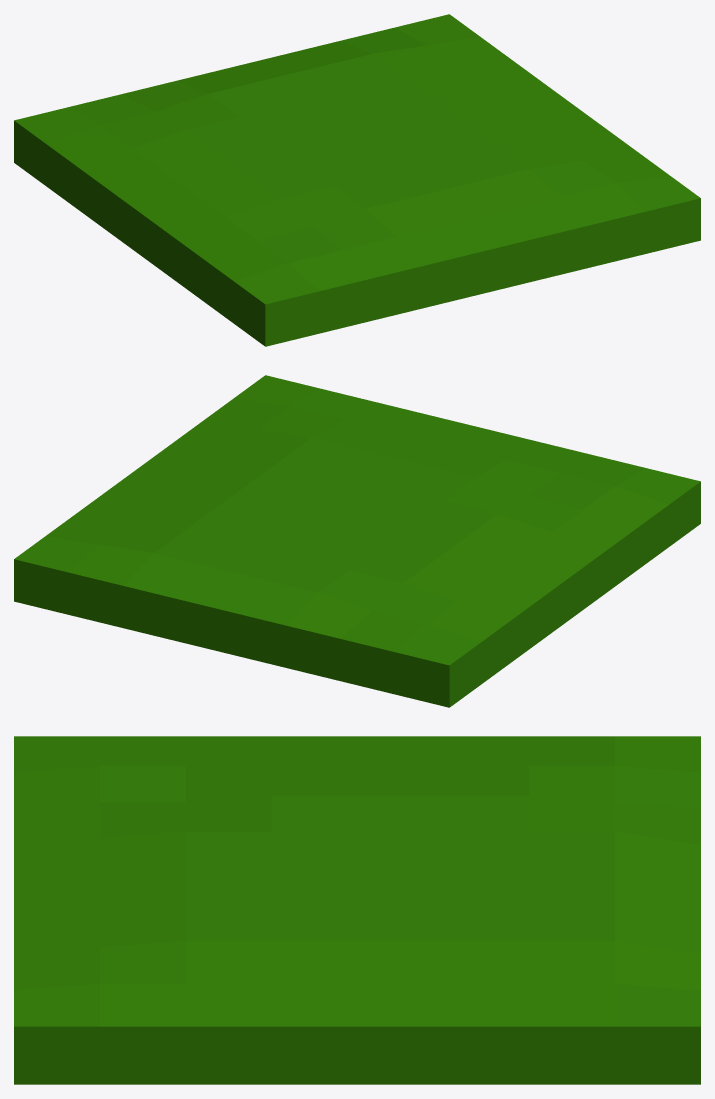
File: Ground_Flat.fbx
3 views of the same model, one above another, from view 1: azimuth 30°, elevation 25°; view 2: azimuth 150°, elevation 25°; view 3: azimuth 270°, elevation 25° (orthographic). The views are drawn at different scales.
Parts seen in each view (by area): view 1: Cube; view 2: Cube; view 3: Cube.
Part boxes in pixels (bbox=[...]): Cube: bbox=[14, 14, 700, 346]; Cube: bbox=[14, 375, 700, 707]; Cube: bbox=[14, 736, 700, 1084].
Bounding box in the file's own units: 995 × 114 × 995.
